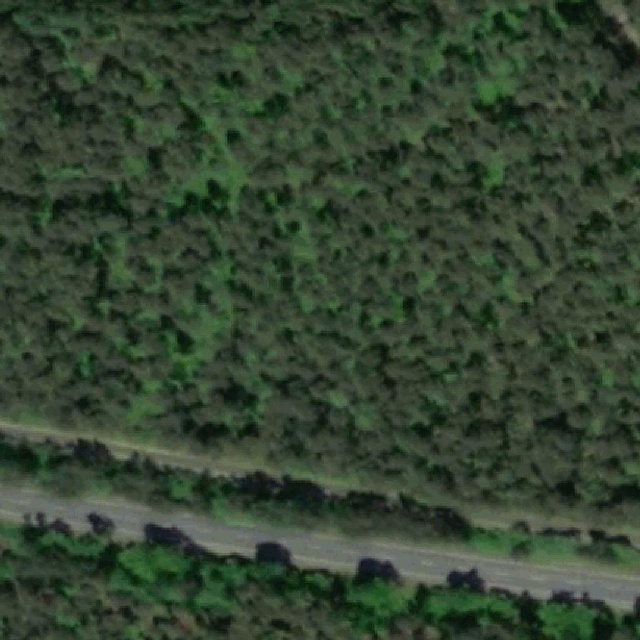vegetation: (0, 0, 640, 534), (0, 432, 640, 575), (0, 518, 640, 640)
